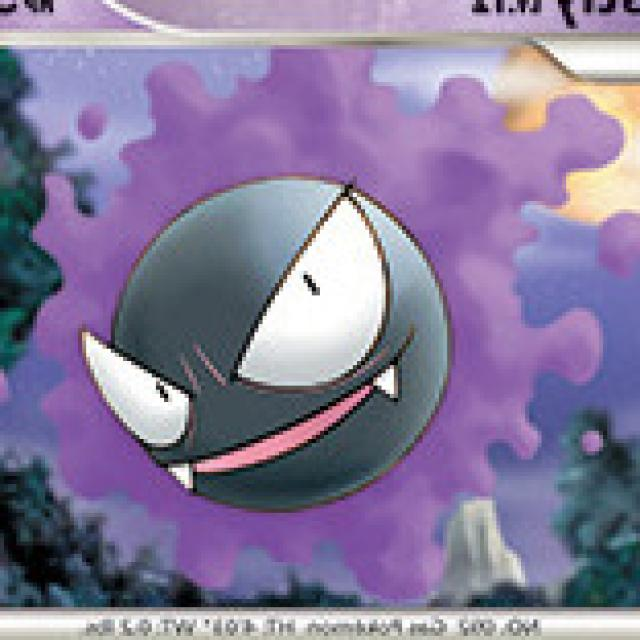Gastly: (47, 89, 541, 535)
